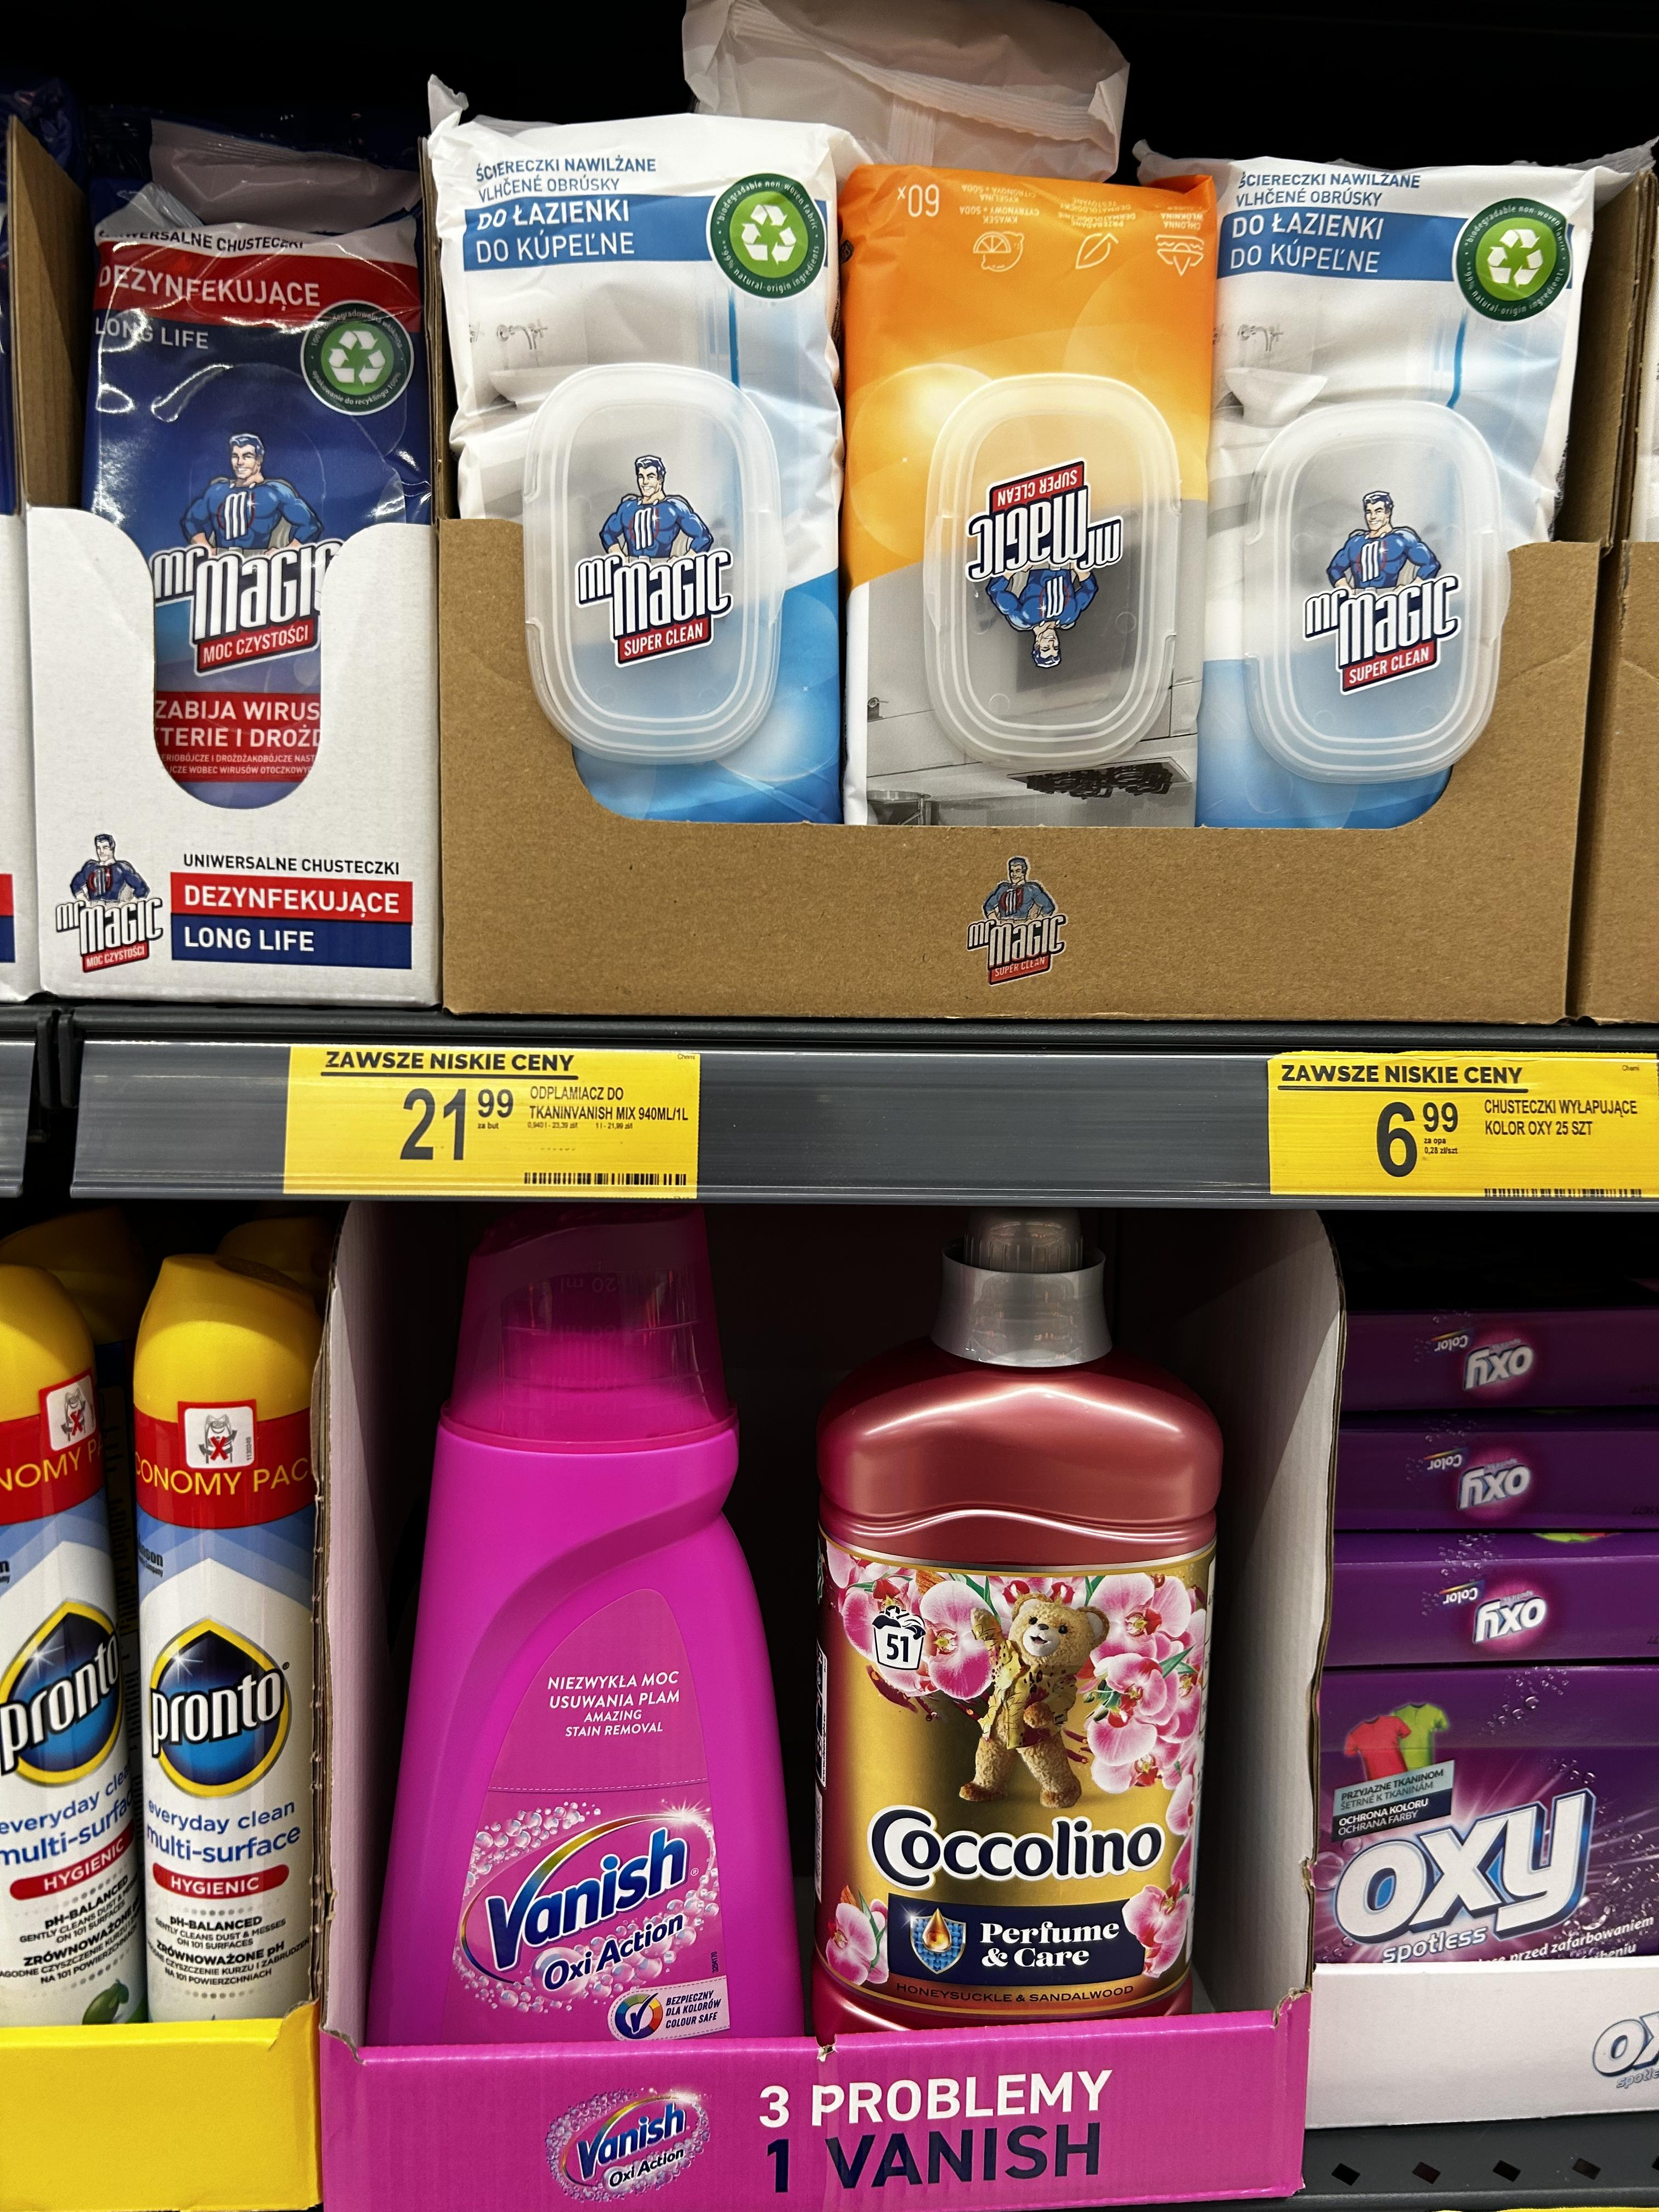cocolino: (809, 1212, 1209, 2038)
